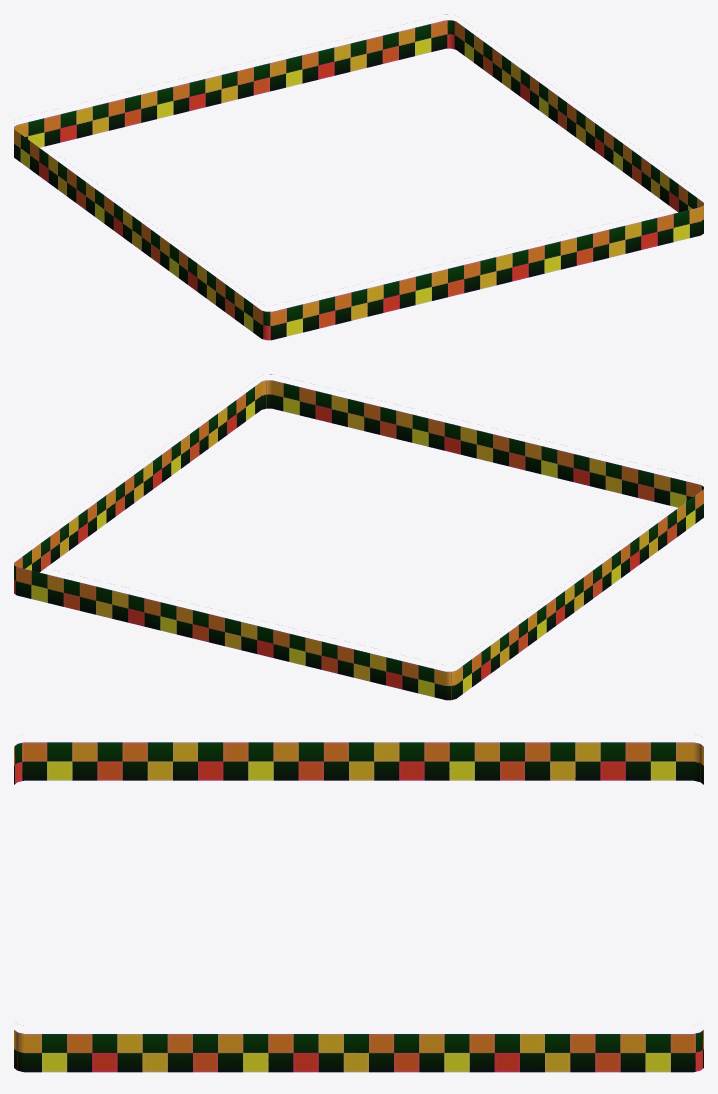
Rendered from hologram_goal_geo.fbx.
3 views of the same model, one above another, from view 1: azimuth 30°, elevation 25°; view 2: azimuth 150°, elevation 25°; view 3: azimuth 270°, elevation 25° (orthographic). The views are drawn at different scales.
Parts seen in each view (by area): view 1: Goal10; view 2: Goal10; view 3: Goal10.
Part boxes in pixels (x1,y1,x2,y2): Goal10: (14, 14, 703, 340); Goal10: (14, 374, 703, 700); Goal10: (14, 742, 703, 1072).
Bounding box in the file's own units: 17.03 × 1.48 × 17.03.
1 material, 1 textured.
